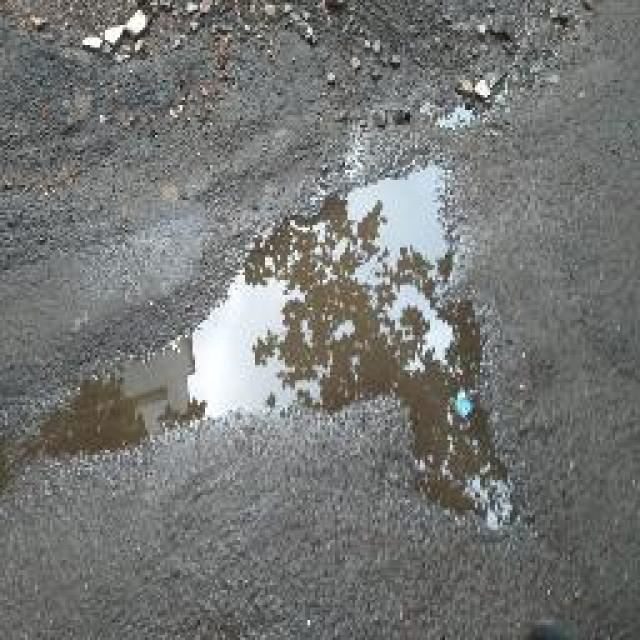puddle: (35, 162, 497, 501)
